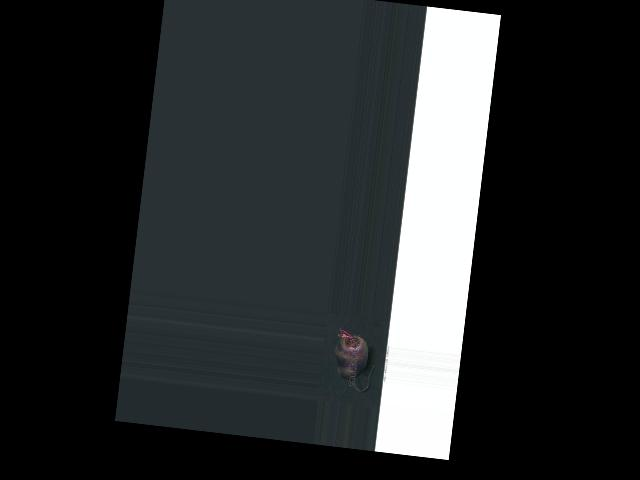beet: (330, 326, 378, 392)
